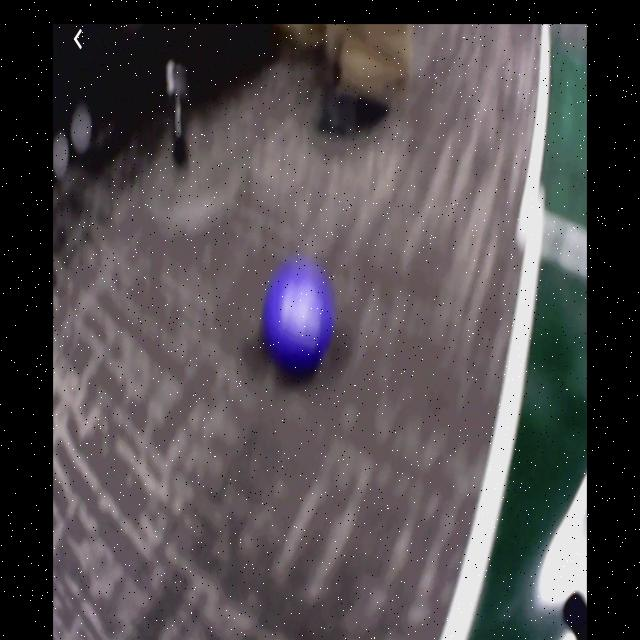ball: (264, 264, 332, 369)
